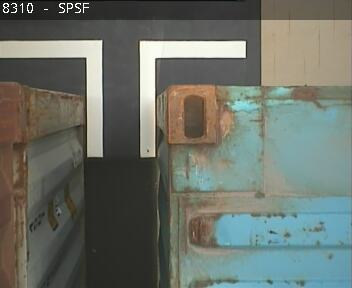groundmarker_1: (1, 39, 245, 158)
